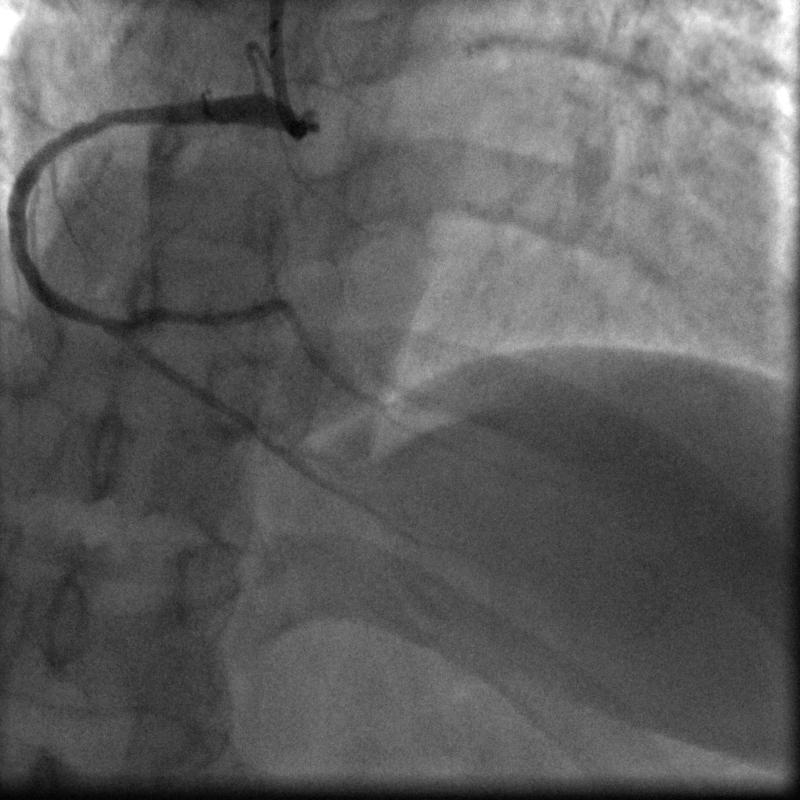Stenosis: (91, 302, 109, 335)
